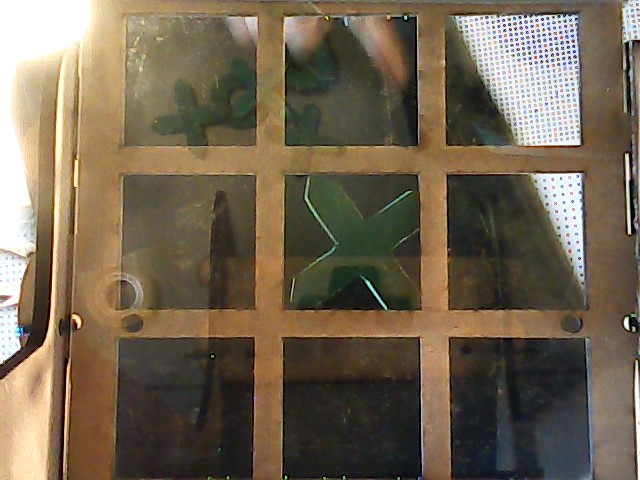X: (299, 175, 422, 309)
